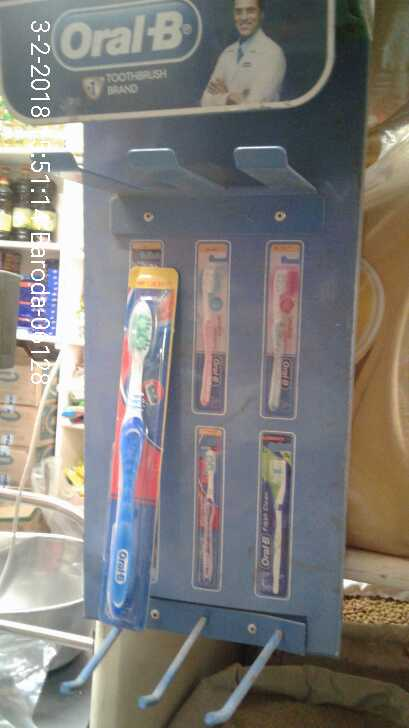oralb: (105, 288, 155, 625)
